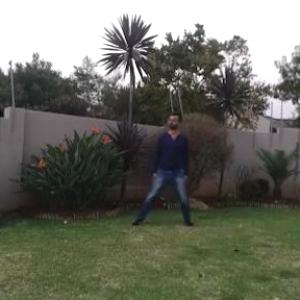follow: (154, 103, 191, 227)
